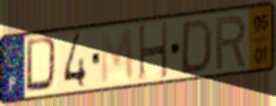4: (61, 30, 90, 91)
D: (24, 35, 62, 95), (178, 17, 215, 77)
H: (137, 20, 169, 83)
M: (99, 26, 136, 86)
R: (214, 14, 248, 72)
